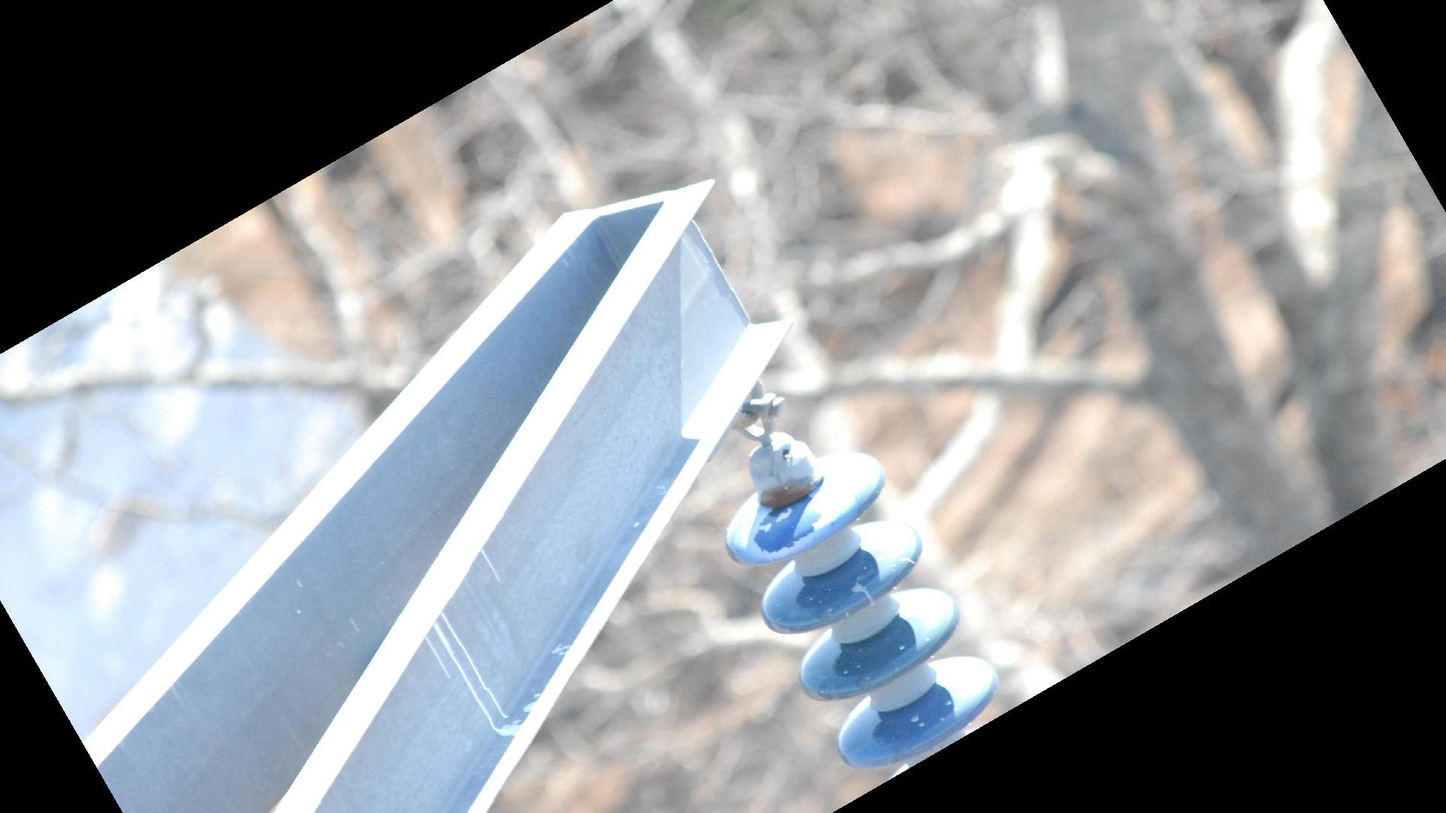insulator: (720, 443, 1006, 774)
insulator_flashover: (749, 494, 825, 558)
